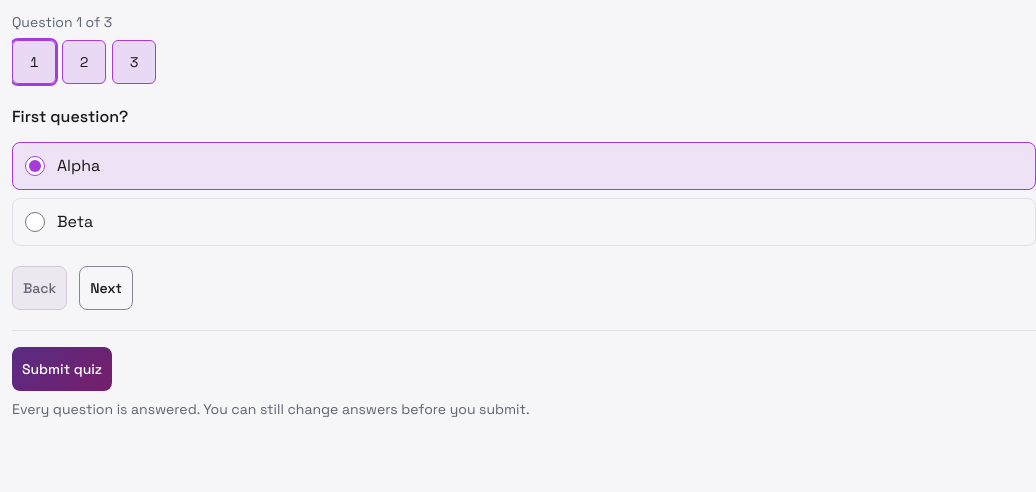
it: QuizStep › explains an incomplete quiz and jumps to the first blank question
Expected: the text "First question?" is shown, [12,106,128,127]
Click the button "Submit quiz" at coordinates (62, 369), box [12,347,112,391]
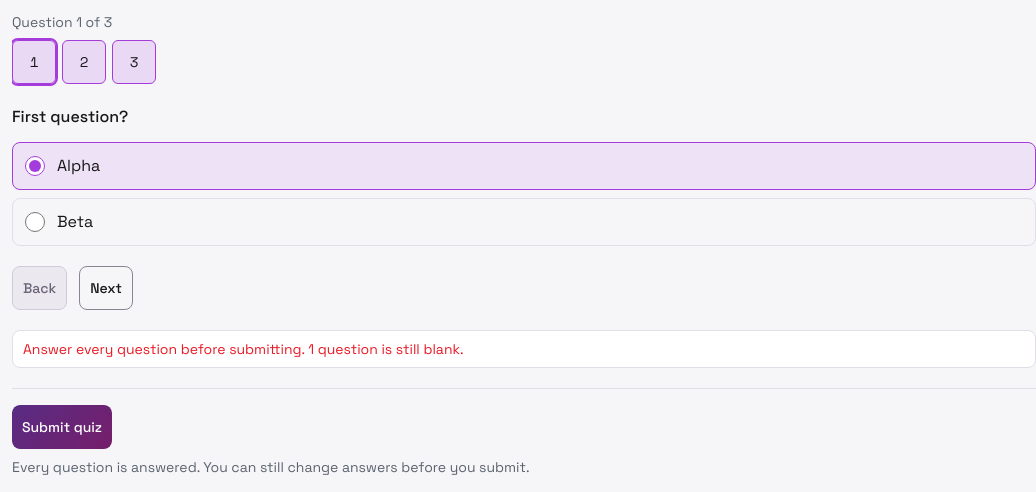
Now the text "Answer every question before submitting" is shown, box [23,340,464,358]
